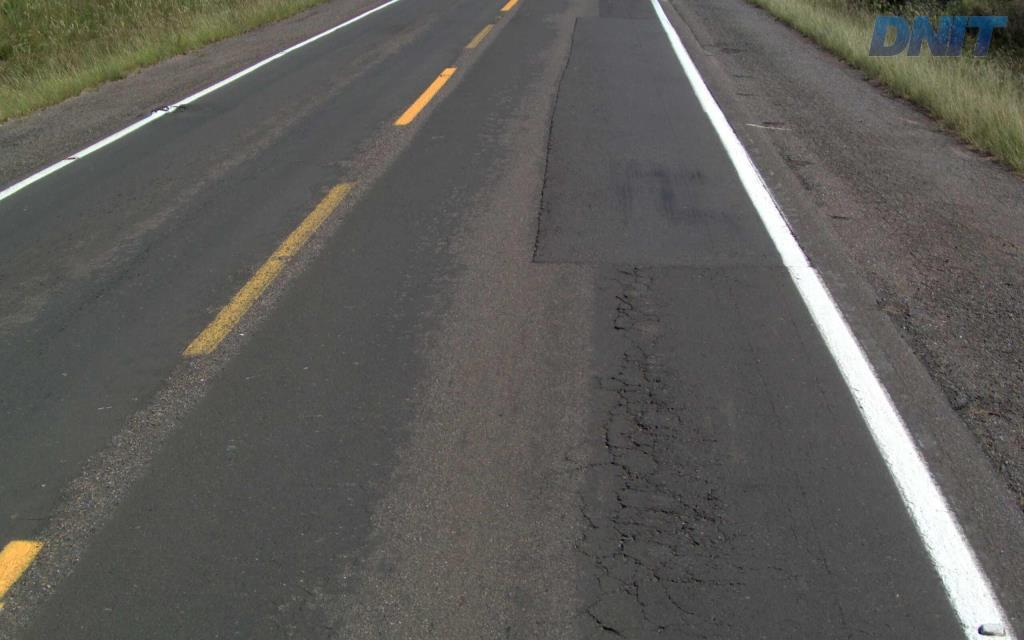crack: (614, 488, 727, 557), (607, 376, 682, 468), (602, 422, 666, 494), (607, 509, 645, 567)
